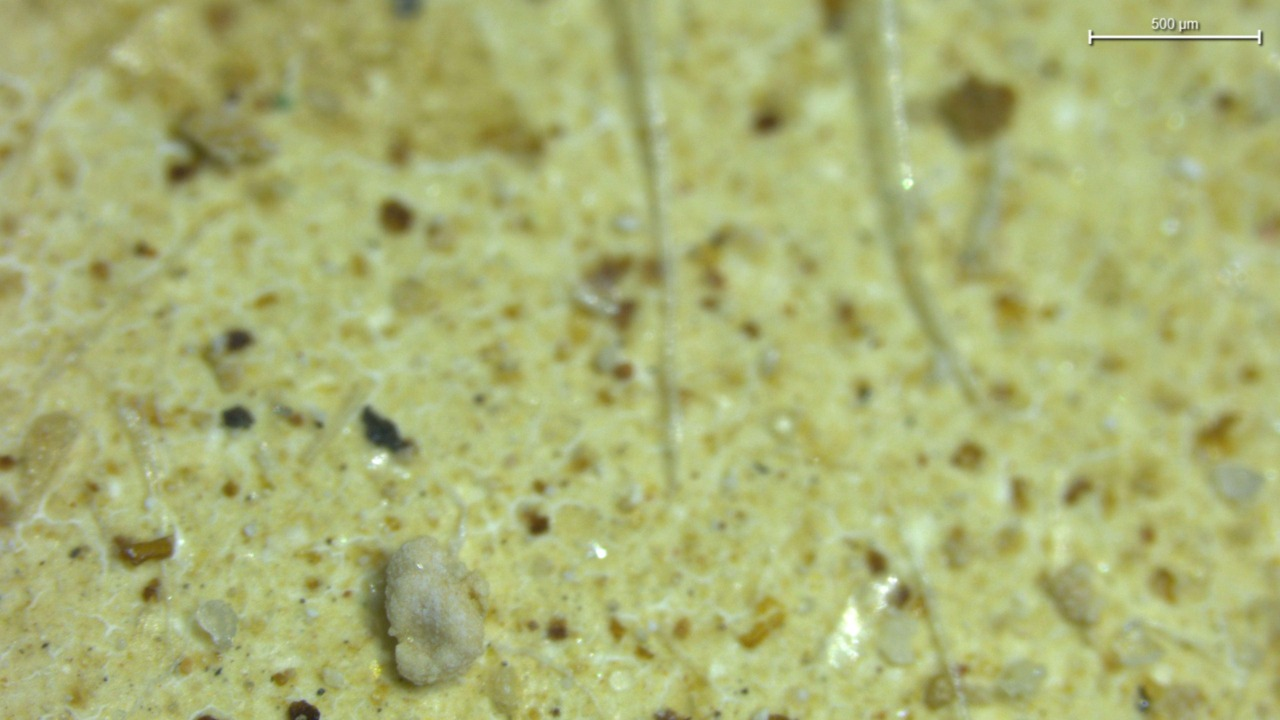microplastic_fragment: (385, 537, 491, 686), (1050, 559, 1104, 630), (195, 600, 238, 649)
